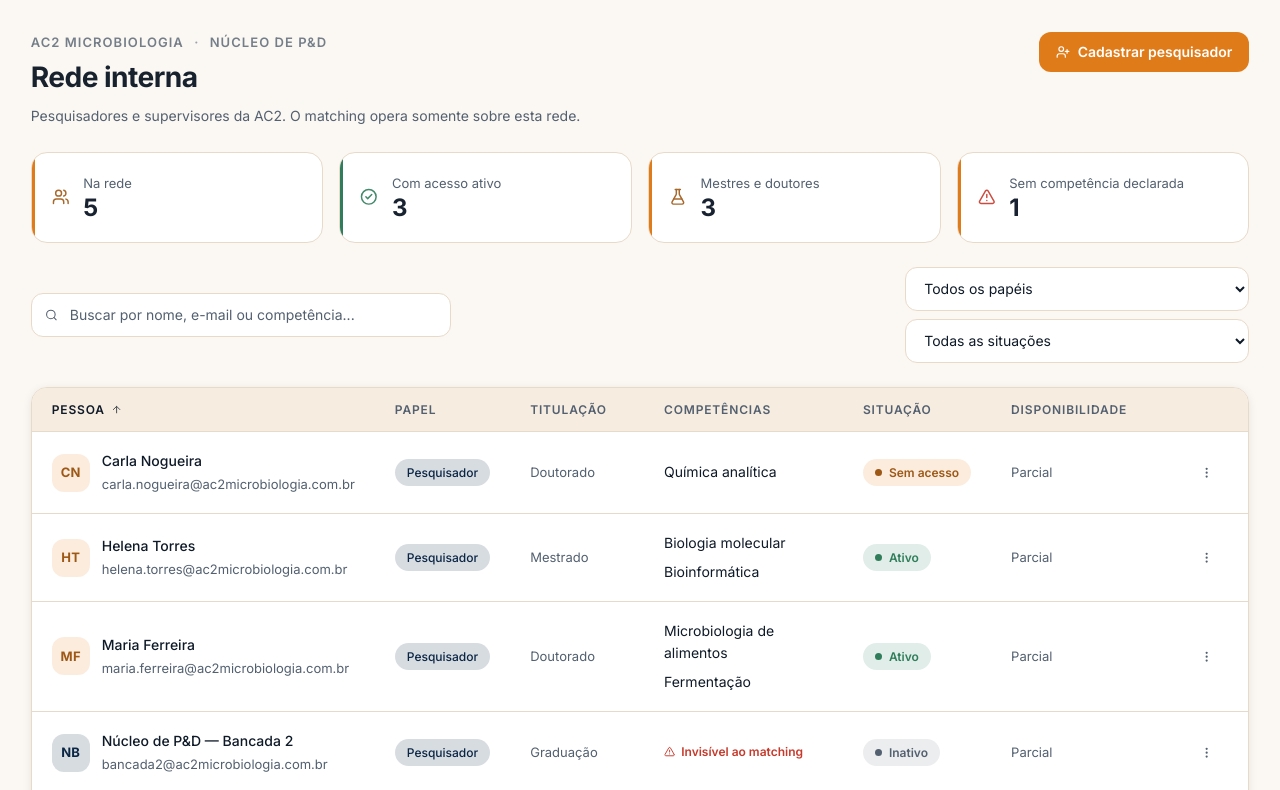
Test: RedePage › libera acesso pela API de quem está cadastrado sem login
The width and height of the screenshot is (1280, 790).
Expected: the text "Maria Ferreira" is shown, [102,636,195,653]
Expected: the text "Sem acesso" is shown, [863,459,971,486]
Click the button named "ações para carla nogueira": (1206, 472) [1184,450,1228,494]
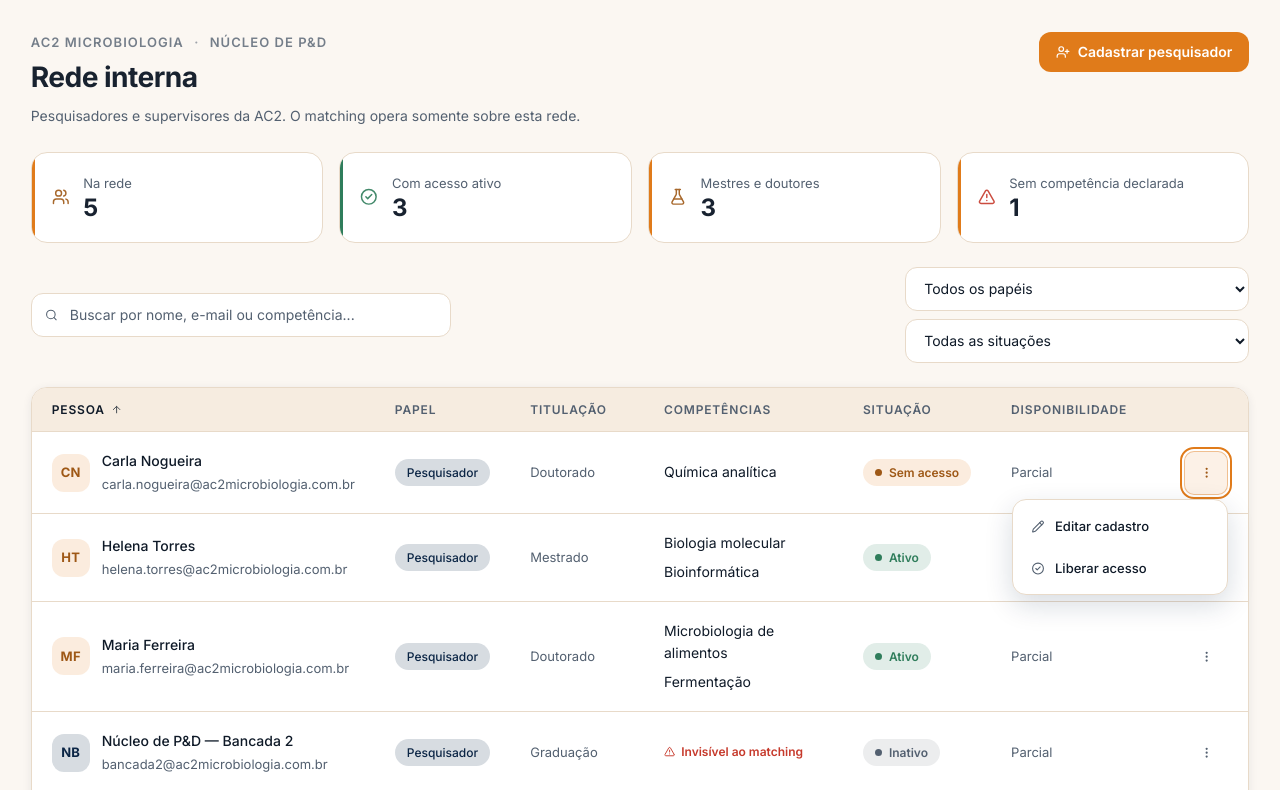
Click the menu item "Liberar acesso": (1120, 568) [1019,548,1221,588]
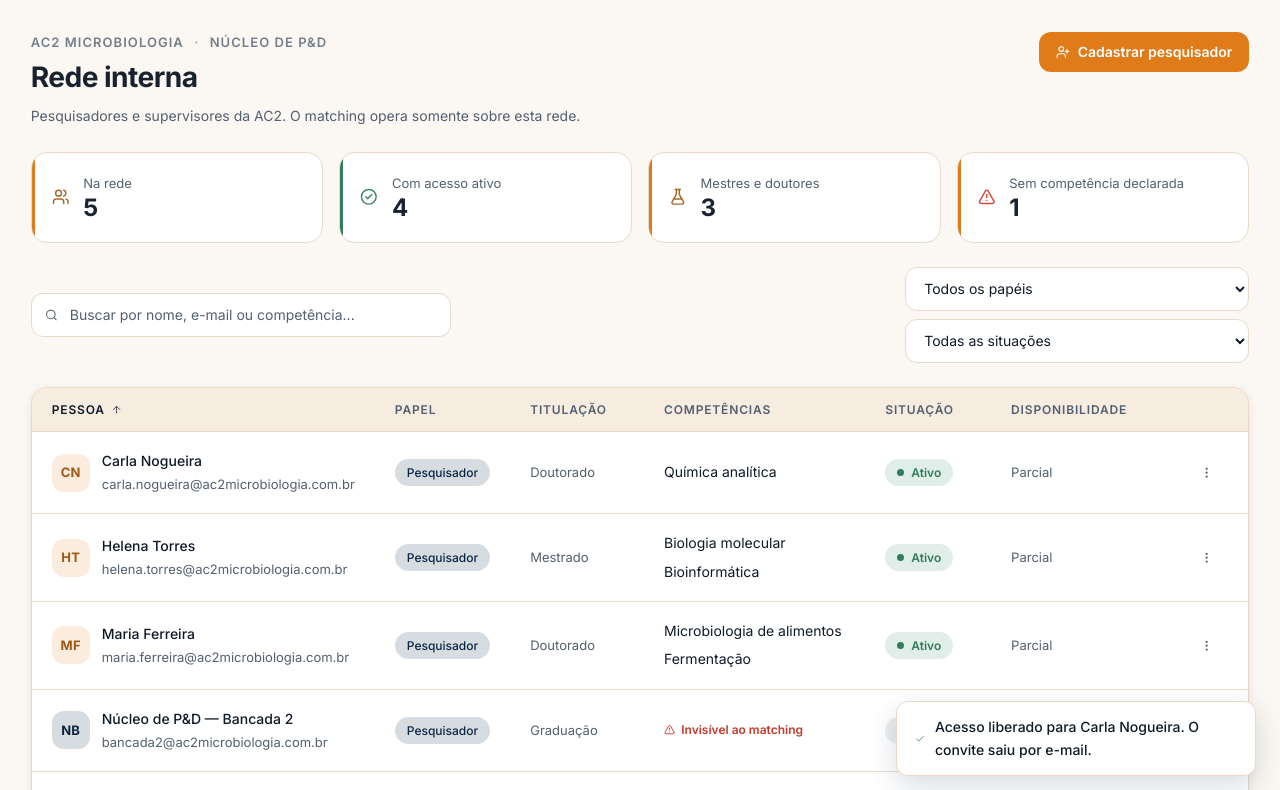
Now the text "Acesso liberado para Carla Nogueira. O convite saiu por e-mail." is shown, box [896,701,1256,776]
